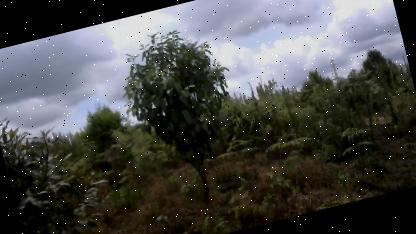tree: (106, 10, 262, 209)
